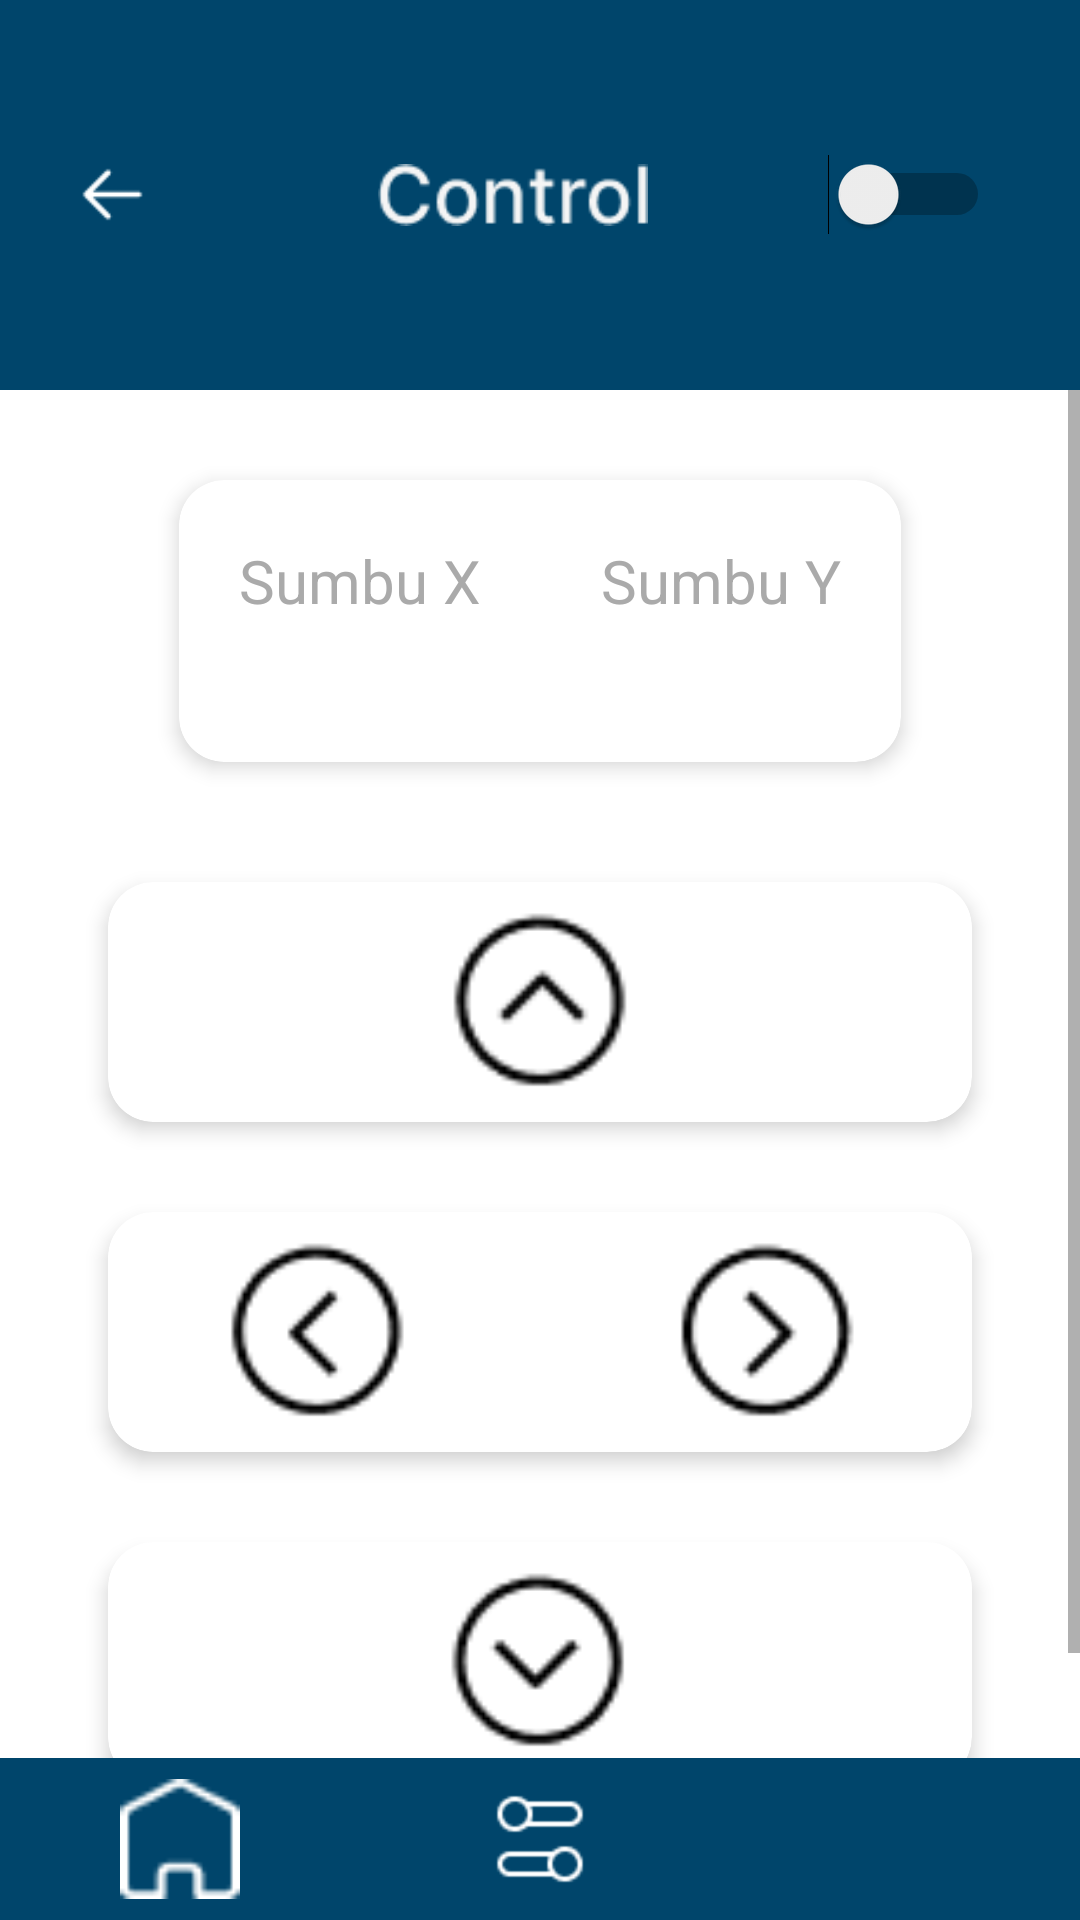

Icons on this 1080×1920 Android screen, each with its box as (x1, y1, x2, y2):
atas: (454, 914, 626, 1086)
back: (82, 169, 143, 220)
bawah: (451, 1574, 624, 1746)
cobutton: (496, 1795, 584, 1883)
hbutton: (120, 1779, 240, 1899)
kanan: (681, 1244, 853, 1416)
kiri: (231, 1244, 404, 1416)
